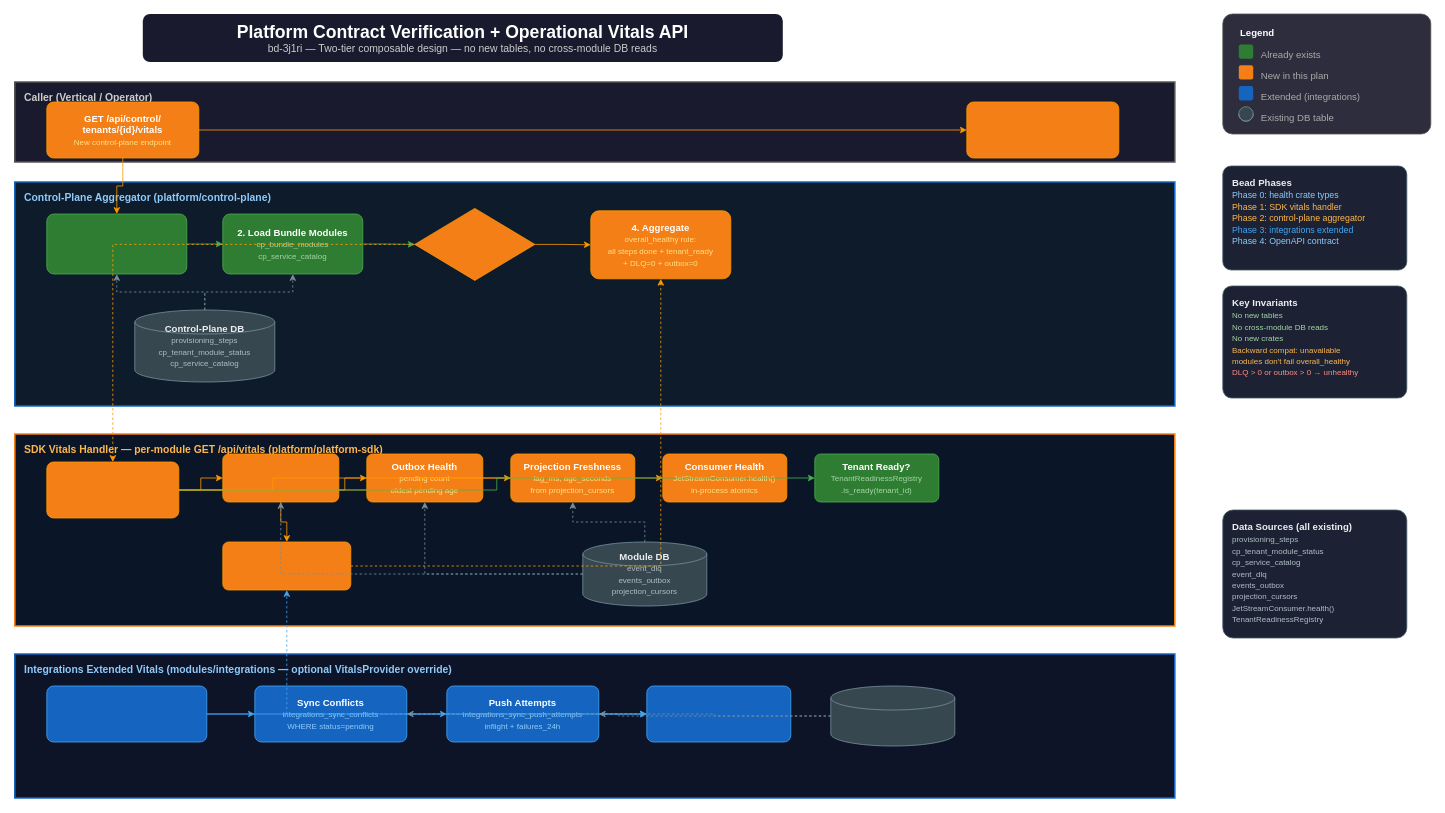
This 1445x813 diagram has some shape labels left out. The centre of each missing label's shape, as x and y in pixels:
1. Read Provisioning provisioning_steps cp_tenant_module_status: [116,243]
3. Parallel HTTP Fanout 2s timeout each: [474,244]
Build VitalsResponse + extended (optional): [286,565]
DLQ Depth COUNT by failure_kind: [280,477]
extended: JSON sync_conflicts_pending push_inflight, failures_24h: [718,713]
GET /api/vitals ?tenant_id= (optional) JWT-gated (platform_admin): [112,489]
Integrations DB sync_conflicts push_attempts: [892,715]
IntegrationsVitalsProvider implements VitalsProvider collect_extended(): [126,713]
TenantVitalsResponse overall_healthy, provisioning, per-module vitals: [1042,129]
